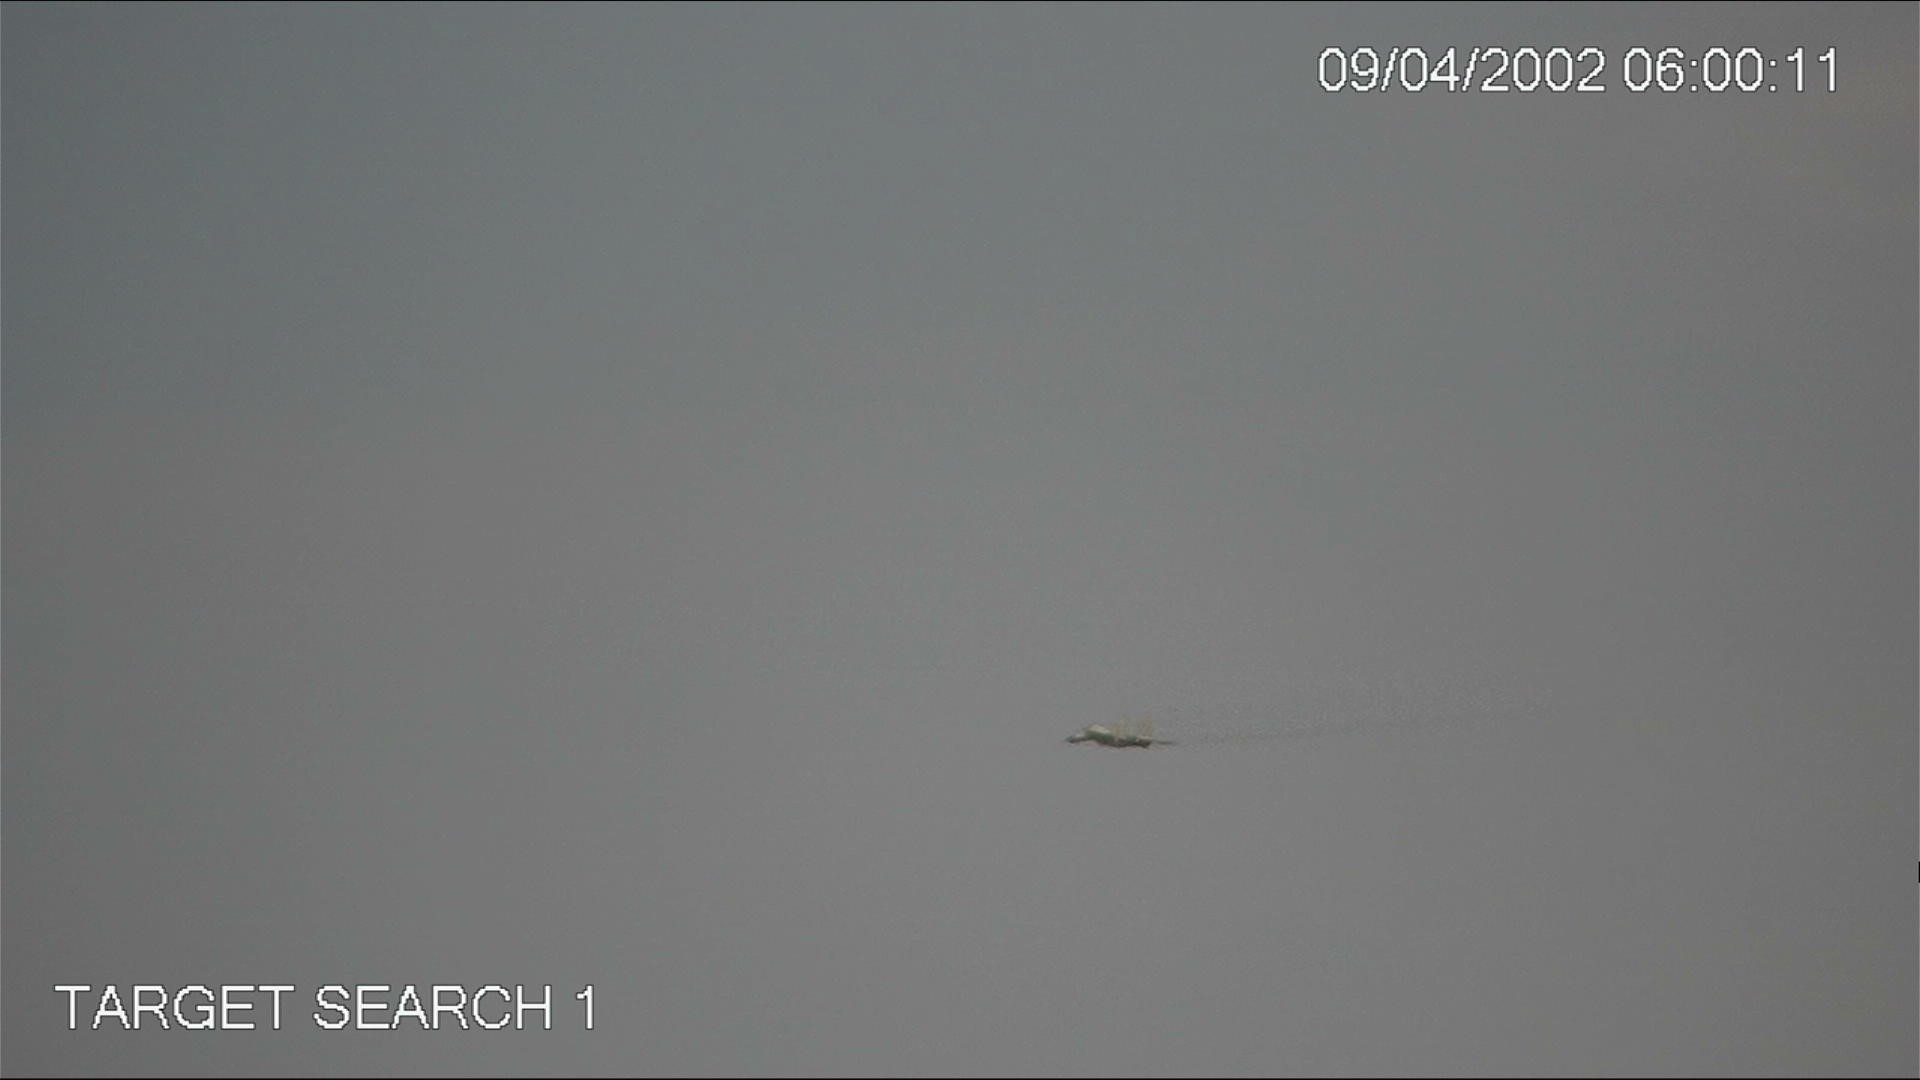SU_30: (1063, 717, 1167, 756)
